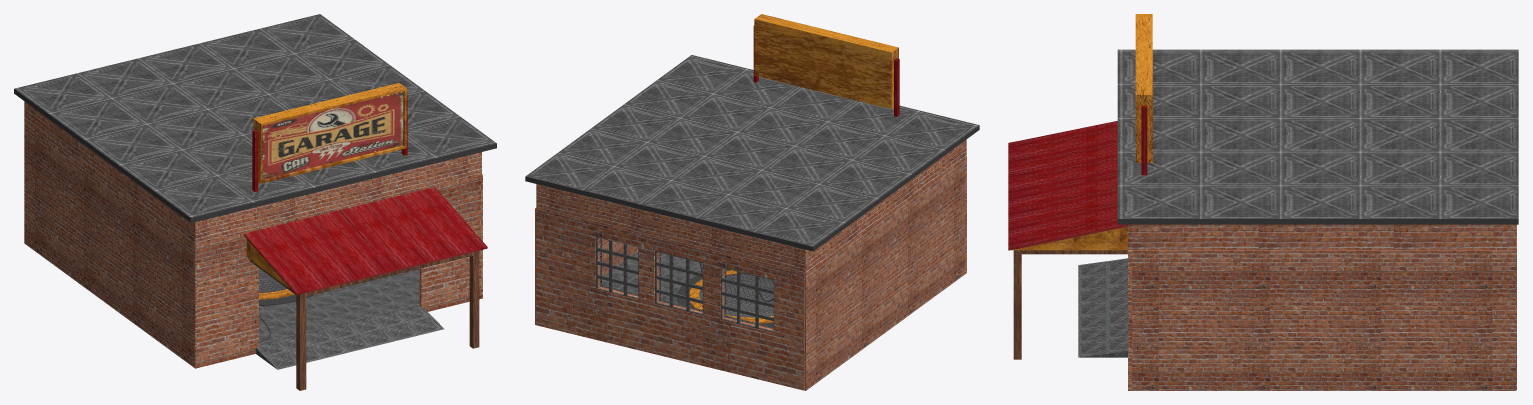
The model's file is garage.glb.
3 views of the same model, side by side, from view 1: azimuth 30°, elevation 25°; view 2: azimuth 150°, elevation 25°; view 3: azimuth 270°, elevation 25° (orthographic). The views are drawn at different scales.
Parts seen in each view (by area): view 1: Cube, Plane.007, Cube.017, Cube.018, Plane.005, Plane.008, Plane.006, Cube.015, Circle, Cube.019, Cube.016; view 2: Cube, Plane.002, Plane.007, Cube.018, Plane.003, Circle, Plane.005, Plane.006, Plane.004, Cube.019; view 3: Cube, Plane.006, Cube.017, Plane.008, Cube.018, Cube.015, Cube.016, Cube.019.
Boxes of the visible parts, <box> form: Cube: <box>14,14,496,244</box>; Plane.007: <box>24,120,258,368</box>; Cube.017: <box>243,187,487,294</box>; Cube.018: <box>253,83,406,183</box>; Plane.005: <box>259,269,419,342</box>; Plane.008: <box>255,304,444,369</box>; Plane.006: <box>419,174,482,311</box>; Cube.015: <box>249,251,479,390</box>; Circle: <box>259,268,315,305</box>; Cube.019: <box>252,95,407,191</box>; Cube.016: <box>246,239,290,288</box>; Cube: <box>525,55,979,274</box>; Plane.002: <box>536,209,804,390</box>; Plane.007: <box>804,157,966,390</box>; Cube.018: <box>754,14,898,108</box>; Plane.003: <box>596,237,773,332</box>; Circle: <box>677,269,773,326</box>; Plane.005: <box>602,251,702,303</box>; Plane.006: <box>535,208,638,324</box>; Plane.004: <box>600,238,773,328</box>; Cube.019: <box>753,25,899,116</box>; Cube: <box>1117,49,1518,249</box>; Plane.006: <box>1128,250,1516,390</box>; Cube.017: <box>1008,121,1127,250</box>; Plane.008: <box>1078,258,1127,357</box>; Cube.018: <box>1135,14,1152,162</box>; Cube.015: <box>1013,250,1127,359</box>; Cube.016: <box>1011,226,1127,250</box>; Cube.019: <box>1141,105,1147,175</box>.
Bounding box in the file's own units: 17.15 × 12.1 × 21.83.
Materials: 16 (14 with a texture image).
